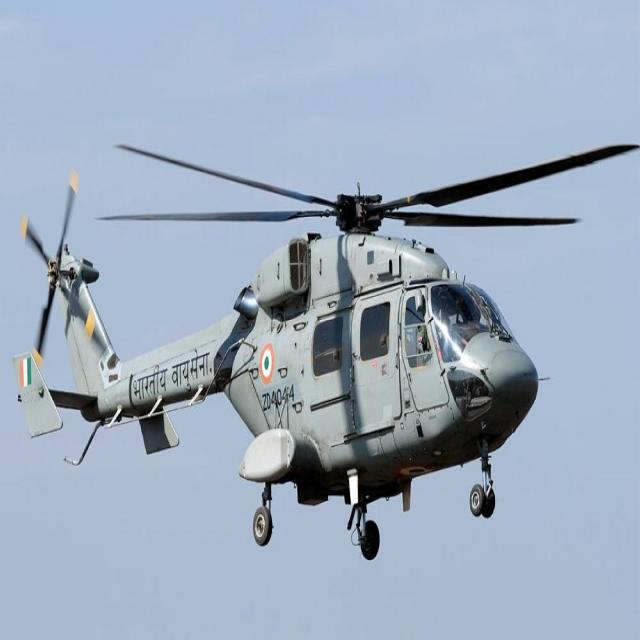MIL_HELO: (14, 131, 640, 572)
